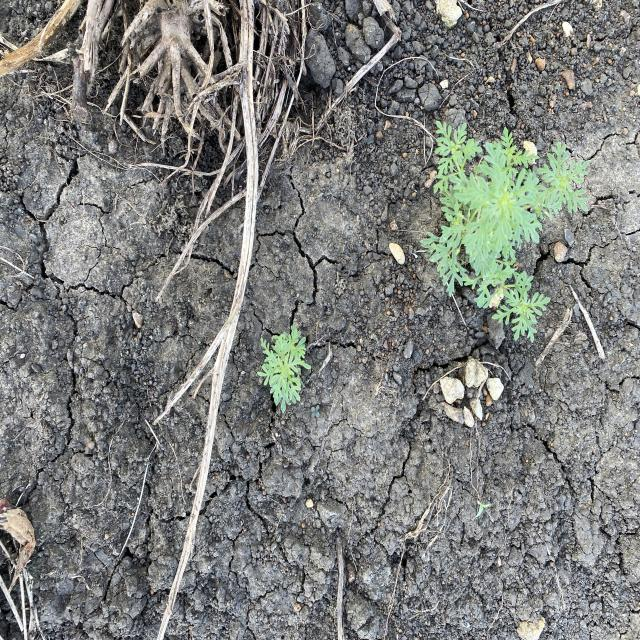Ragweed: (420, 118, 594, 345), (254, 323, 315, 416)
